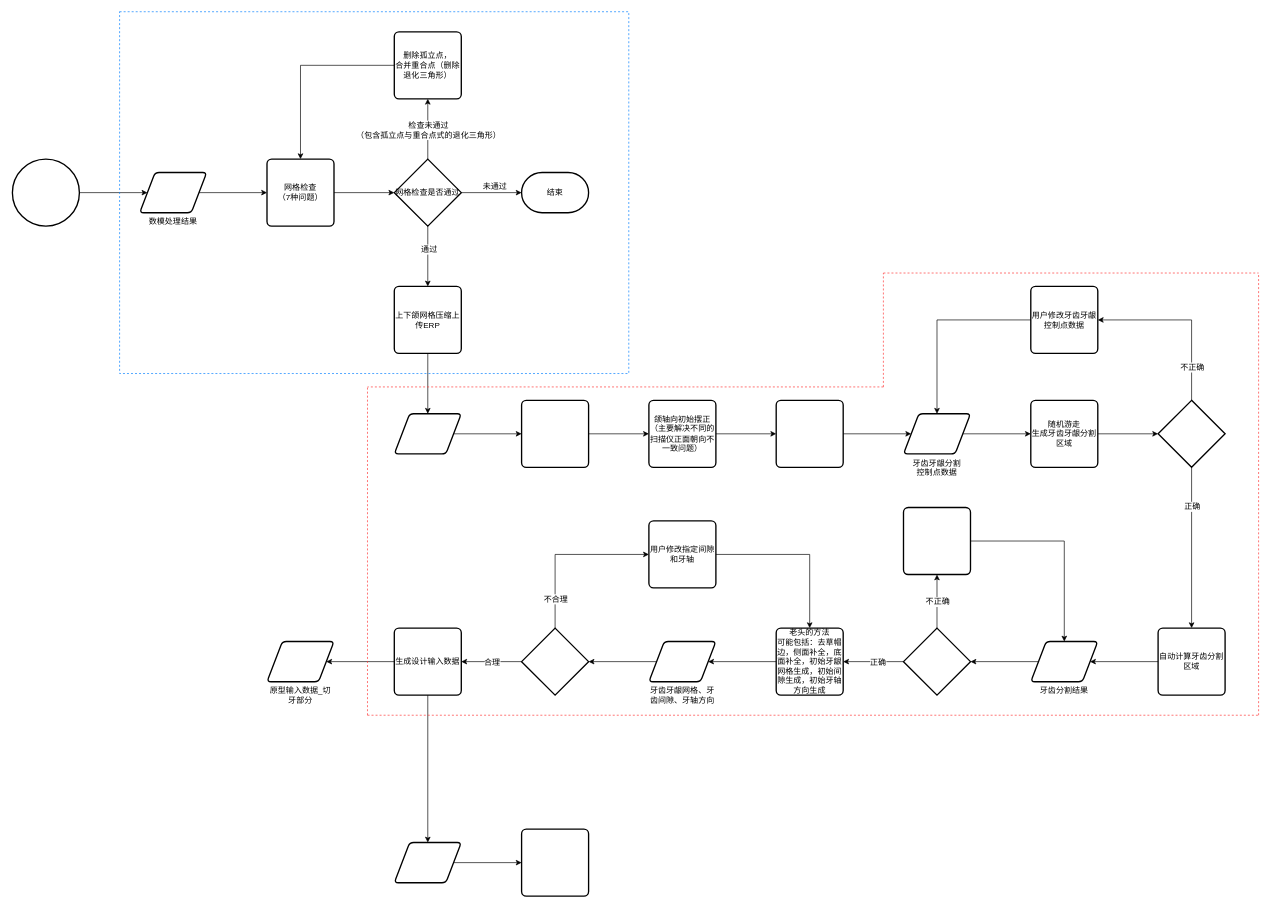
This 1271x919 diagram has some shape labels left out. Here are the shapes that lost their labels. From the top down, the box of each, then its label:
(11, 158, 80, 226): 开始
(393, 413, 462, 454): 切牙输入数据
(521, 399, 589, 468): 网格解压
(775, 399, 844, 468): 自动生成牙齿牙龈控制点
(1157, 399, 1225, 468): 用户检查牙齿牙龈分割是否正确
(902, 507, 971, 575): 合并、删除、小区域再分割
(521, 627, 589, 695): 用户判断间隙及轴向是否合理
(902, 627, 971, 695): 用户检查牙齿分割区域是否正确
(393, 842, 462, 883): 设计输入数据
